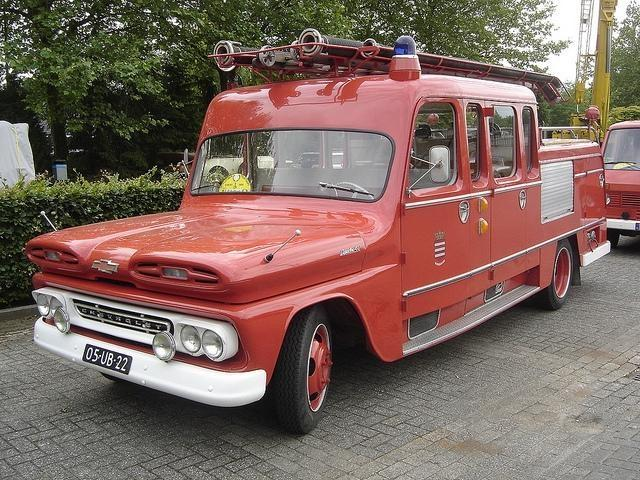truck: (28, 42, 612, 425), (602, 121, 640, 247)
